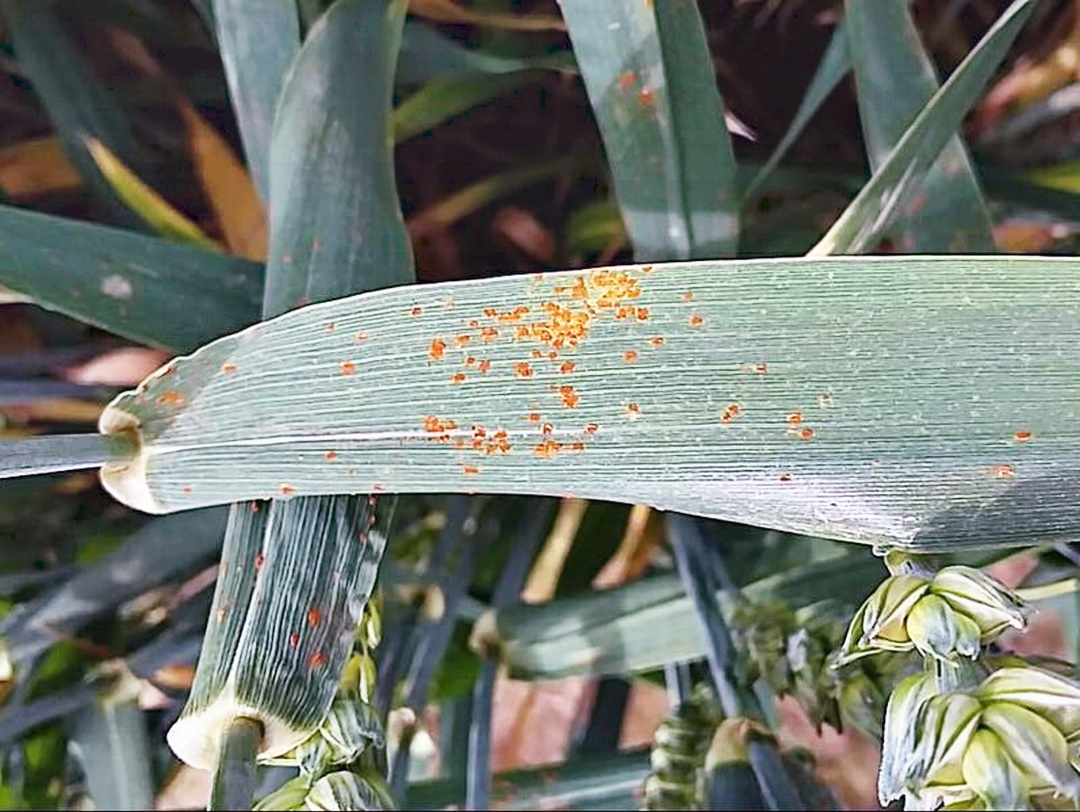Leaf Rust: (375, 241, 704, 495)
